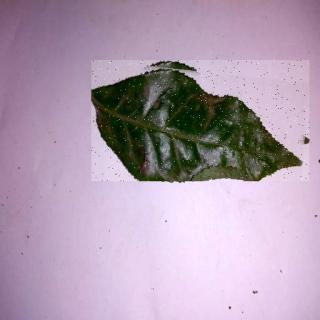Bird Eye Spot: (93, 61, 311, 182)
